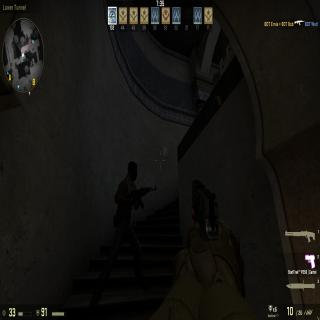T-Body: (113, 160, 141, 294)
T-Head: (125, 160, 138, 191)
